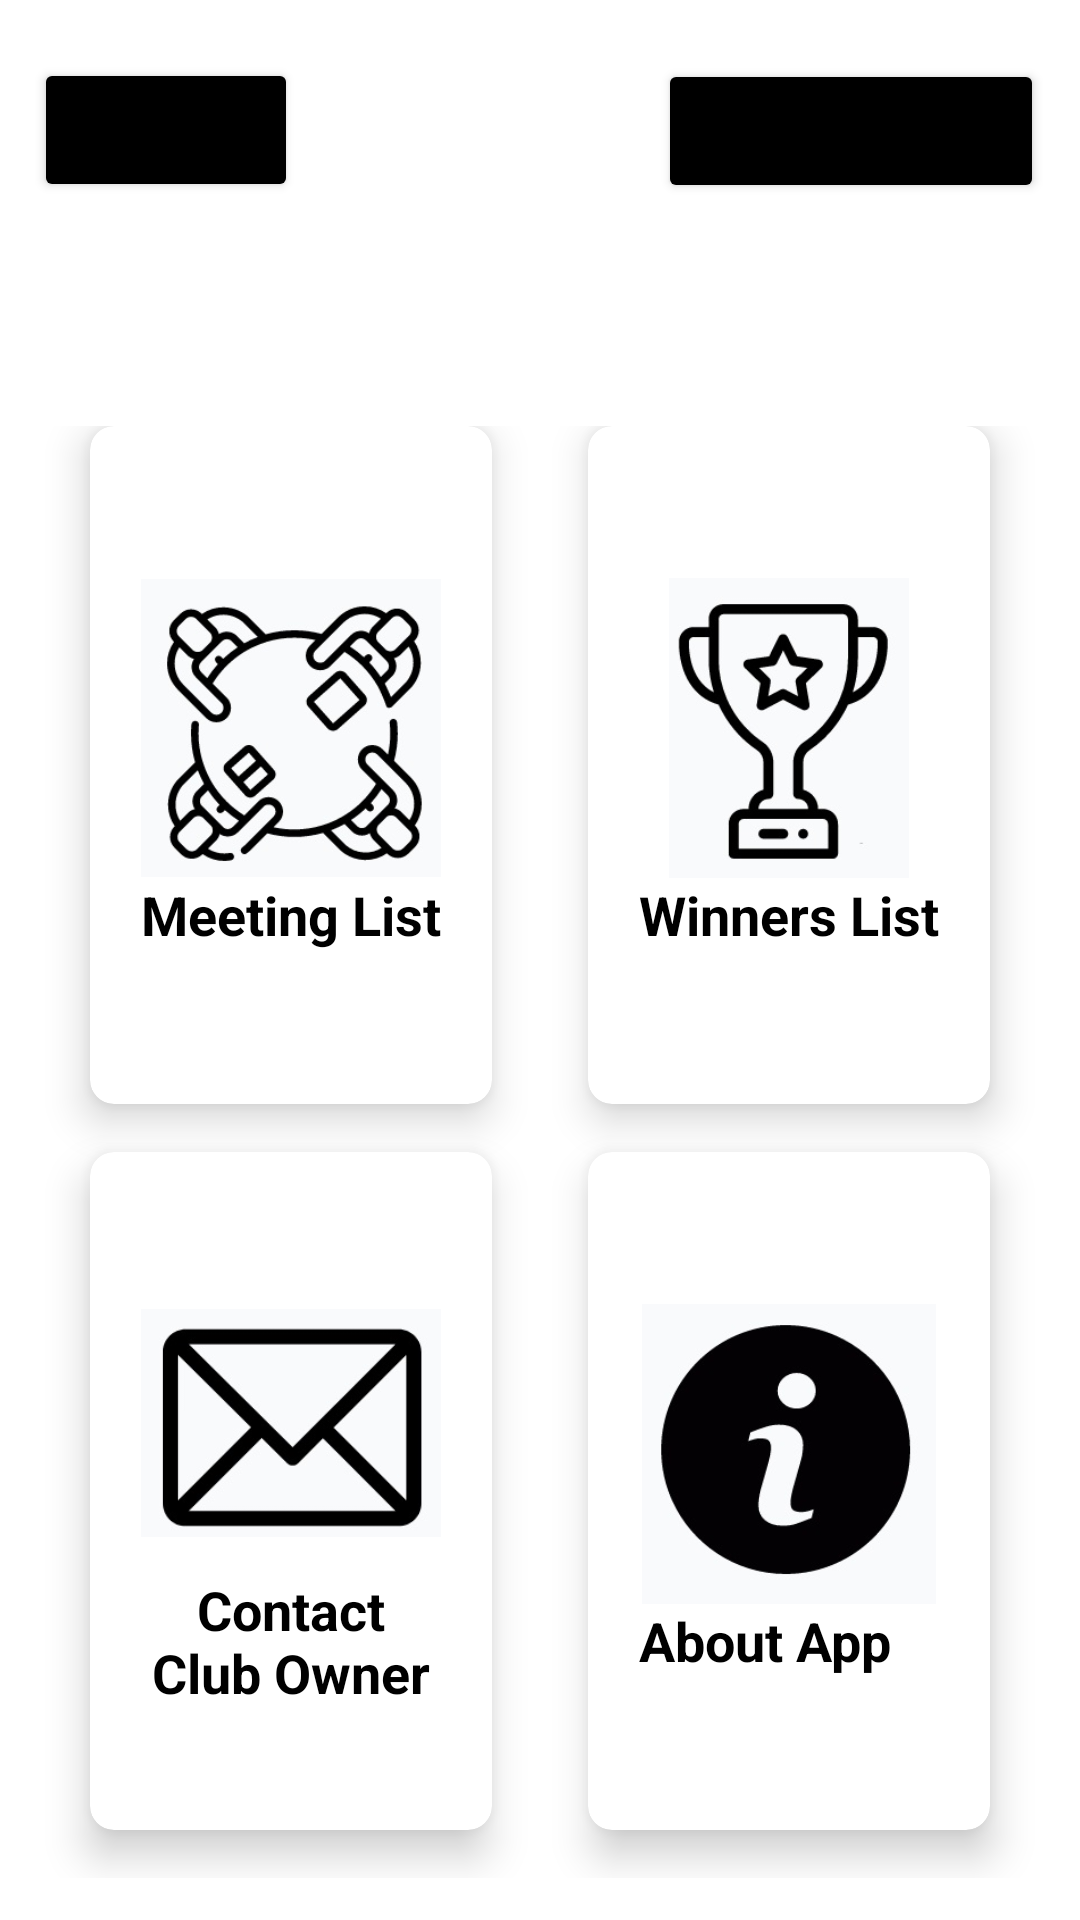

Icons on this 1080 x 1920 Android screen, each with its box as (x1, y1, x2, y2):
message: (162, 1328, 422, 1527)
